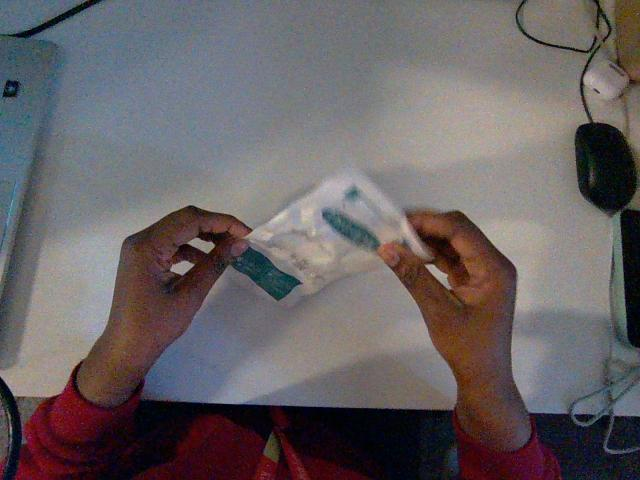gallipot: (230, 169, 431, 304)
